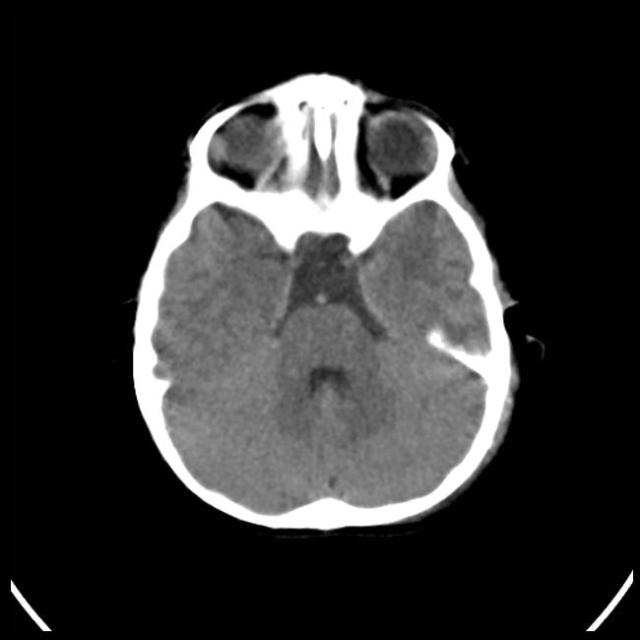lesion: (126, 67, 529, 534)
